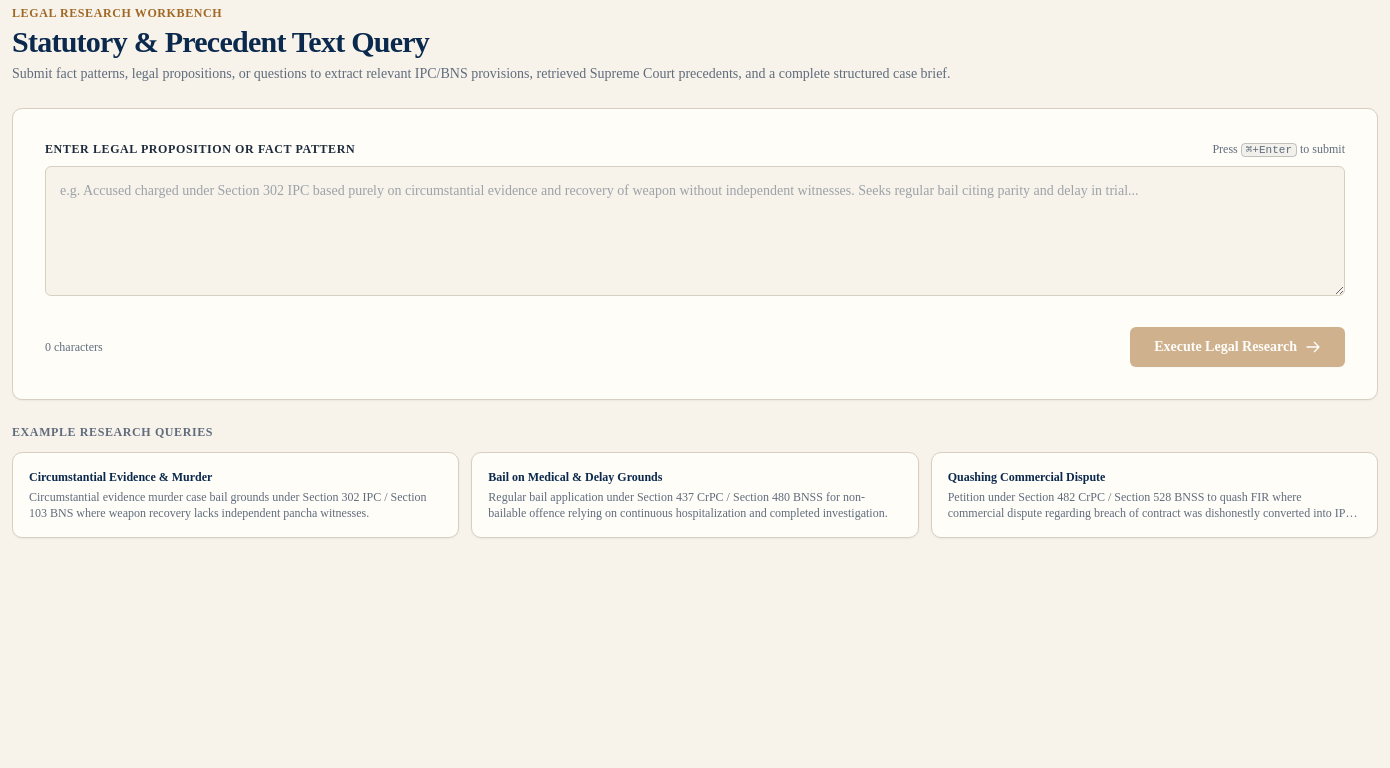
Test: Professional Query Page › submits text query to queryApi.submitText and displays structured results
Replace the text in the text box with placeholder "Accused charged under Section 302 IPC" with "Bail under Section 437 CrPC based on medical records." at coordinates (695, 231), box [45,166,1345,296]
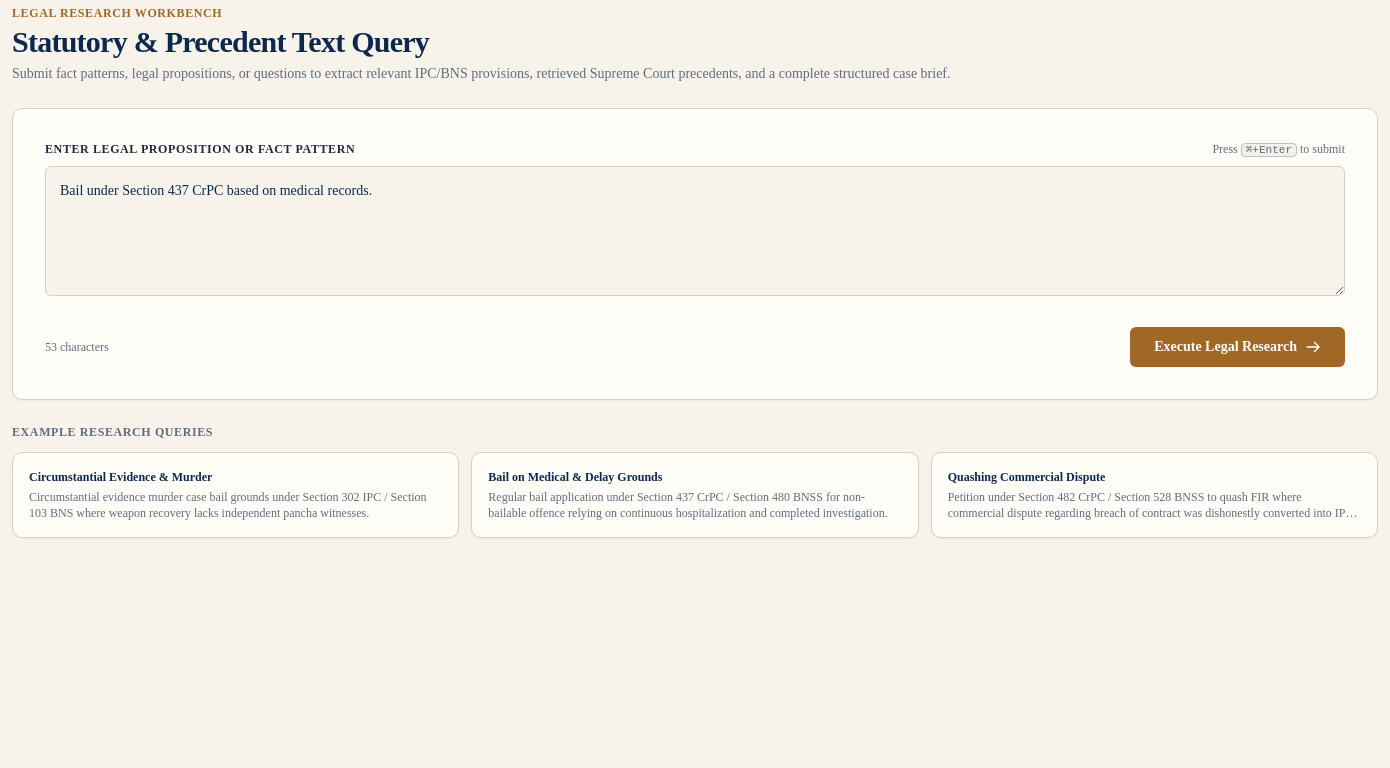
Click the button "Execute Legal Research" at coordinates (1238, 347), box [1130,327,1345,367]
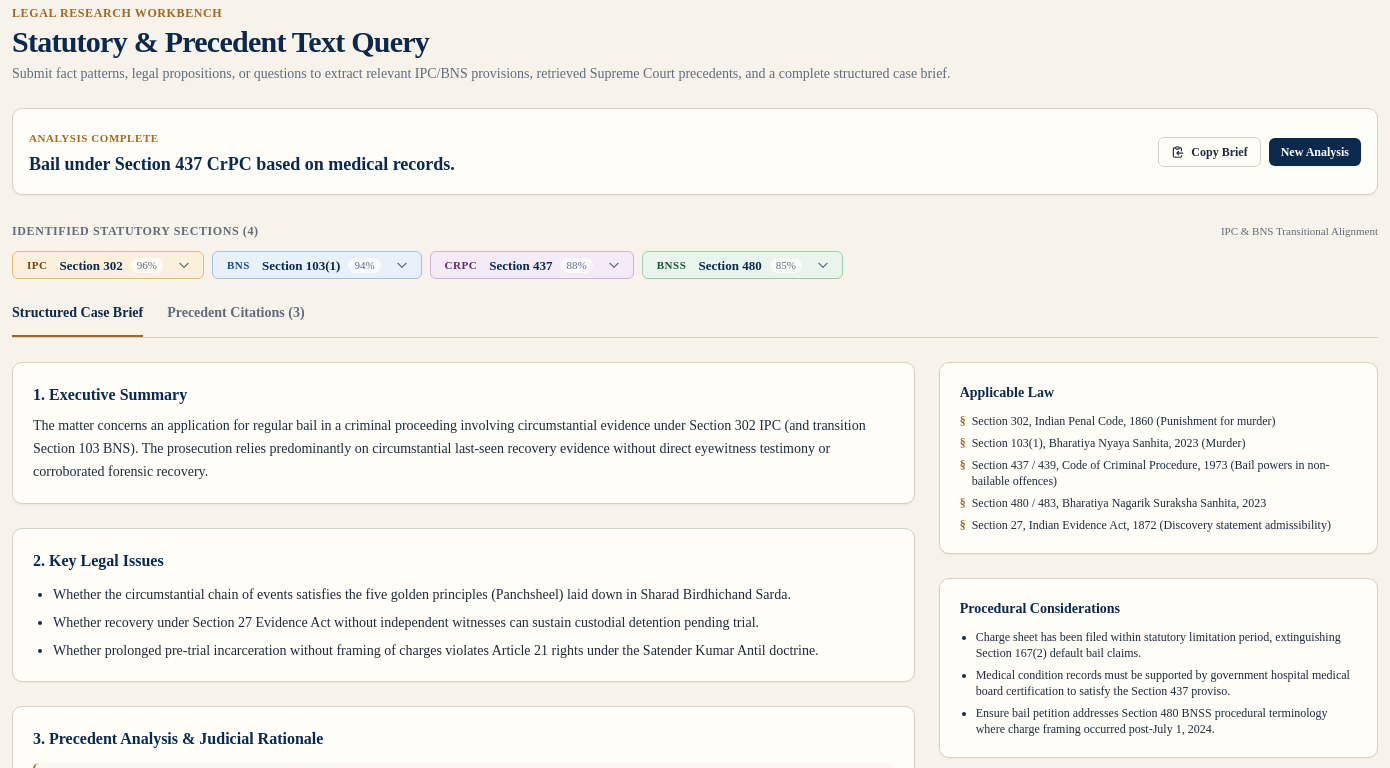
Expected: the heading "1. Executive Summary" is shown, [33,386,187,403]
